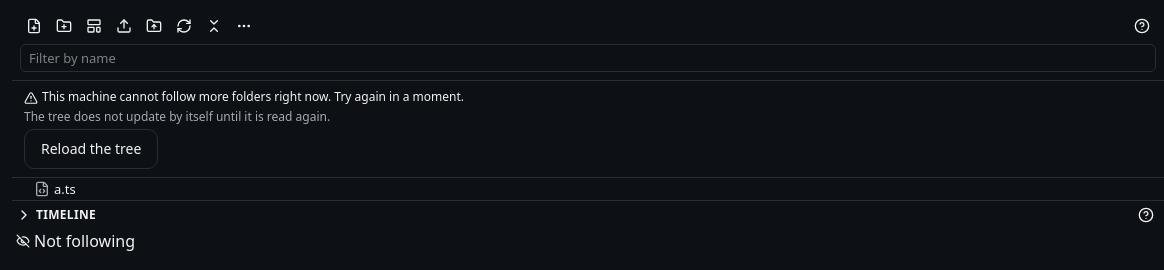
Test: a watcher this machine refuses — S-194 › says so, and reads the tree again by hand, asking for the watcher again
This screenshot has width=1164, height=270.
Expected: the text "This machine cannot follow more folders right now. Try again in a moment." is shown, x1=24 y1=89 x2=464 y2=105
Expected: the button named "The Explorer is not following the changes of this folder. Show the Explorer." is shown, x1=12 y1=229 x2=139 y2=253
Click the button "Reload the tree".
click(91, 149)  # box x1=24 y1=129 x2=158 y2=169
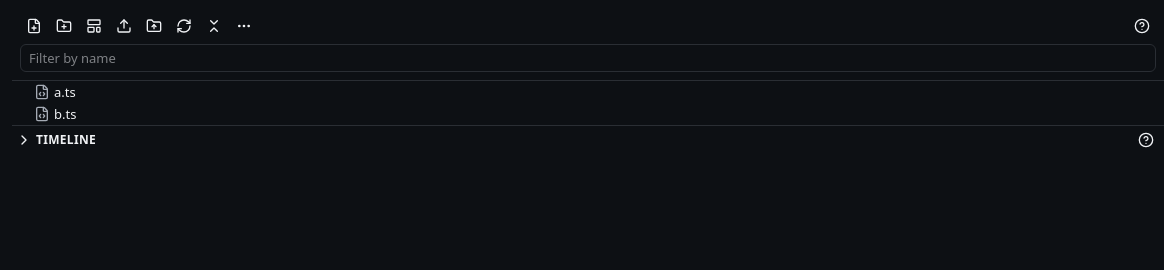
Expected: the list item "b.ts" is shown, x1=34 y1=105 x2=76 y2=123
Expected: the text "This machine cannot follow more folders right now. Try again in a moment." is gone
